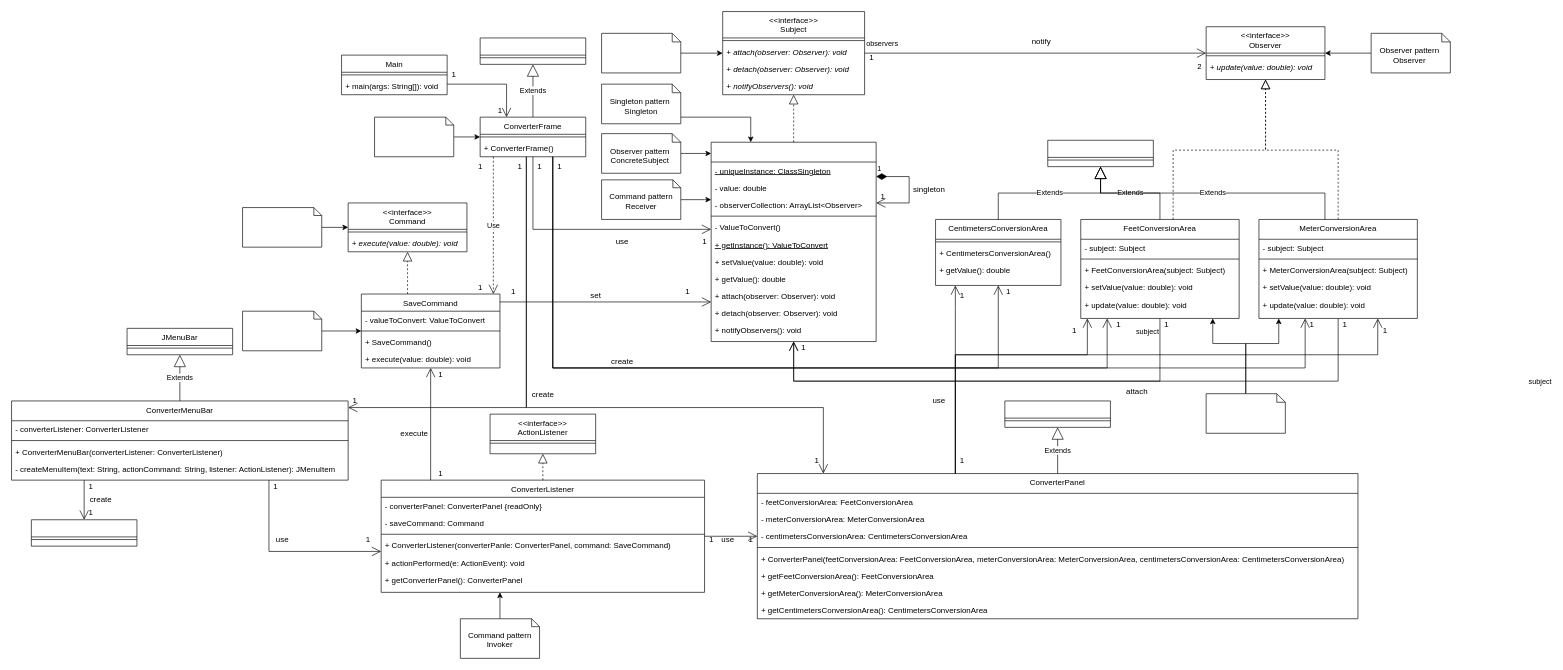
This 1563x670 diagram has some shape labels left out. Here are the shapes that lost their labels. From the top down, the box of each, then its label:
(479, 37, 586, 64): JFrame
(601, 33, 681, 73): Observer pattern Subject
(374, 116, 454, 157): Command pattern Client
(1047, 140, 1153, 167): JTextArea
(242, 207, 322, 247): Command pattern Command
(710, 142, 876, 342): ValueToConvert {leaf}
(242, 311, 322, 351): Command pattern ConcreteCommand
(1004, 400, 1110, 427): JPanel
(1205, 393, 1285, 433): Observer pattern ConcreteObserver
(31, 519, 137, 546): JMenuItem
